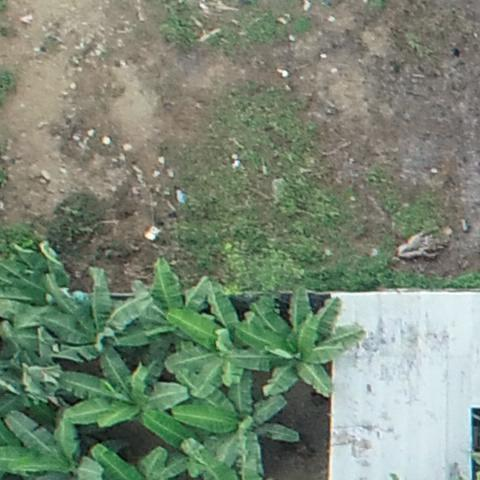Banana-plant: (62, 351, 192, 448), (244, 293, 365, 396), (51, 275, 154, 373), (197, 379, 299, 475), (134, 262, 225, 366), (0, 406, 102, 480)
